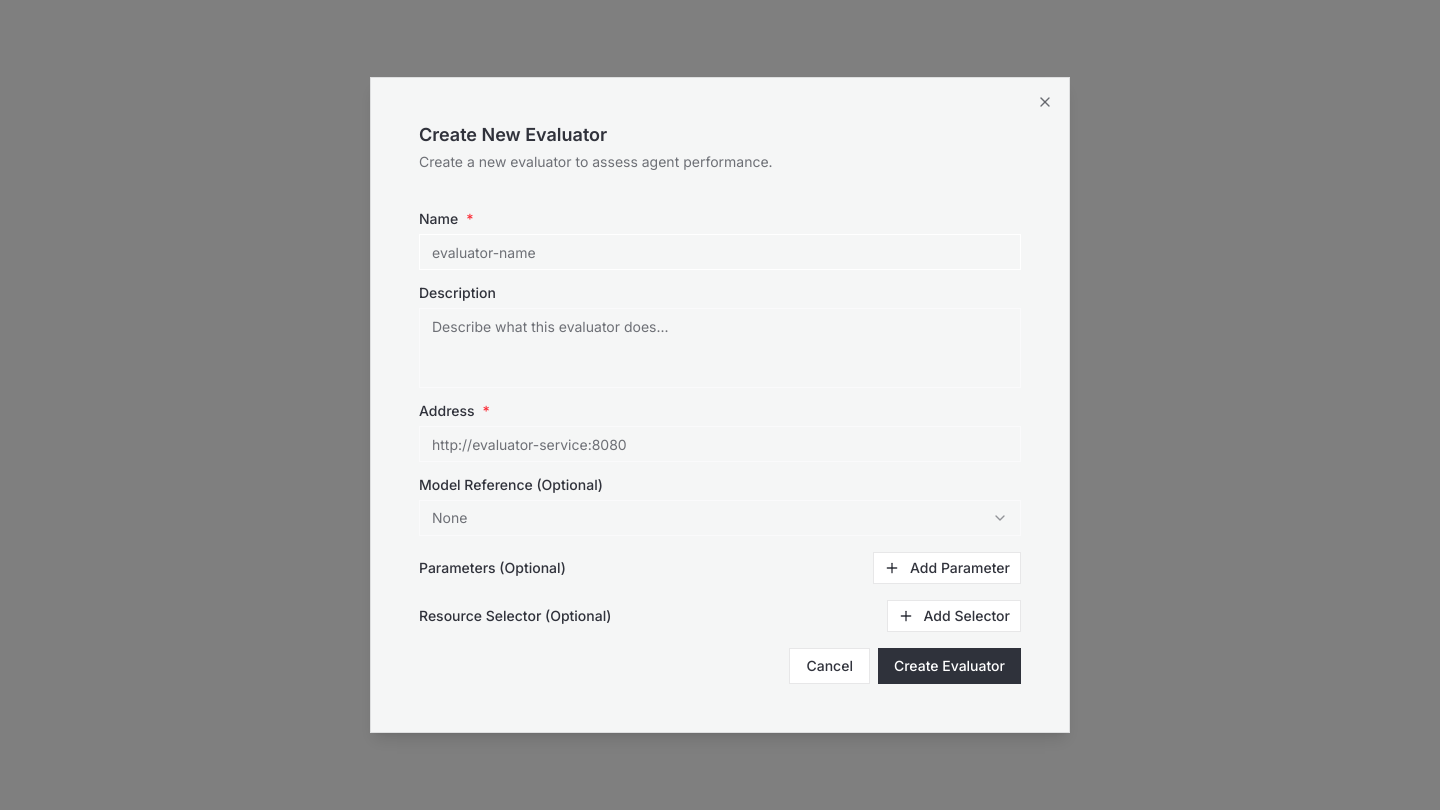
Test: EvaluatorEditor › validation › should show error for invalid name format
The image size is (1440, 810).
Type "Invalid Name!" into the field with placeholder "evaluator-name". click: [720, 252]
box: 419,234 -> 1021,270
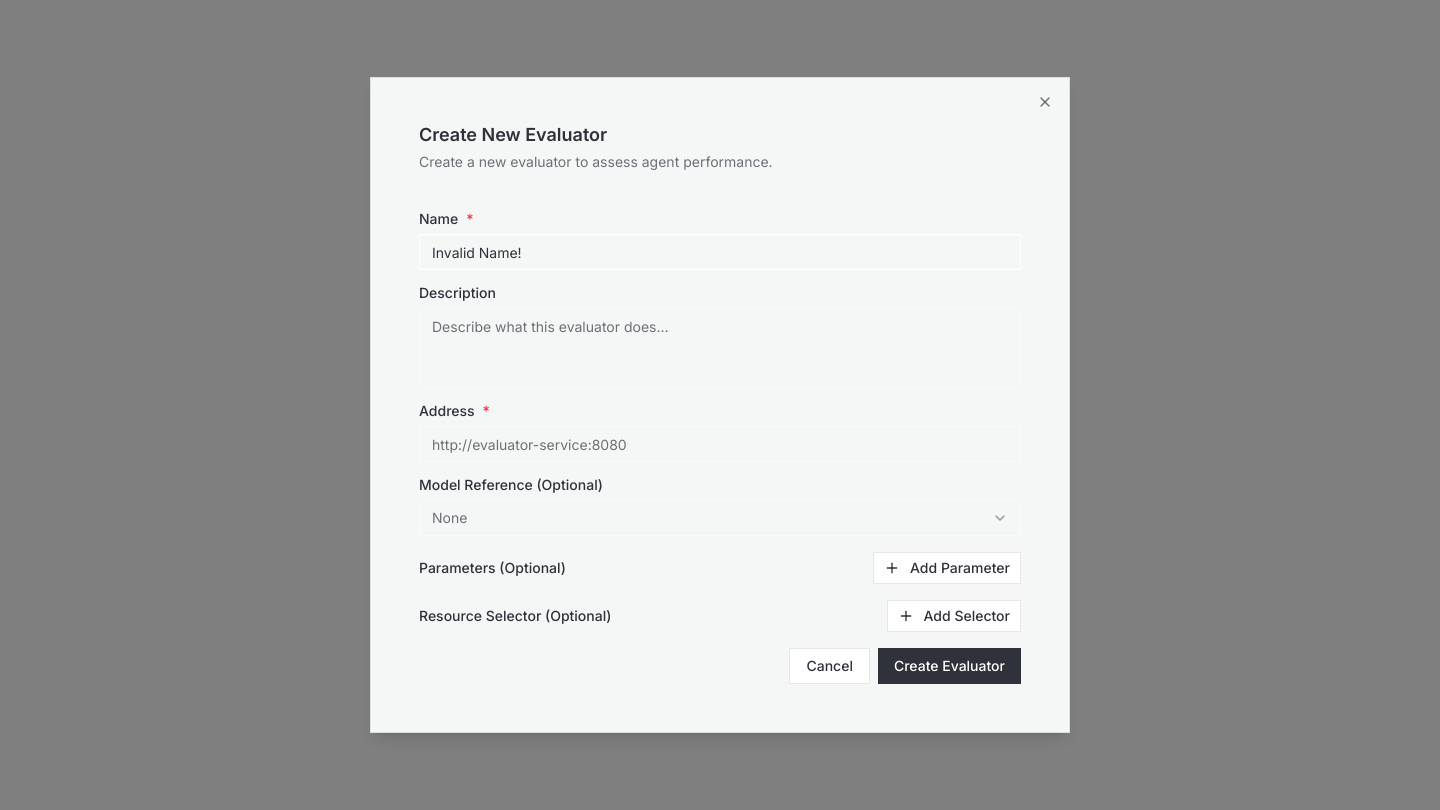
Click the button "Create Evaluator". click: [949, 666]
box: 878,648 -> 1021,684
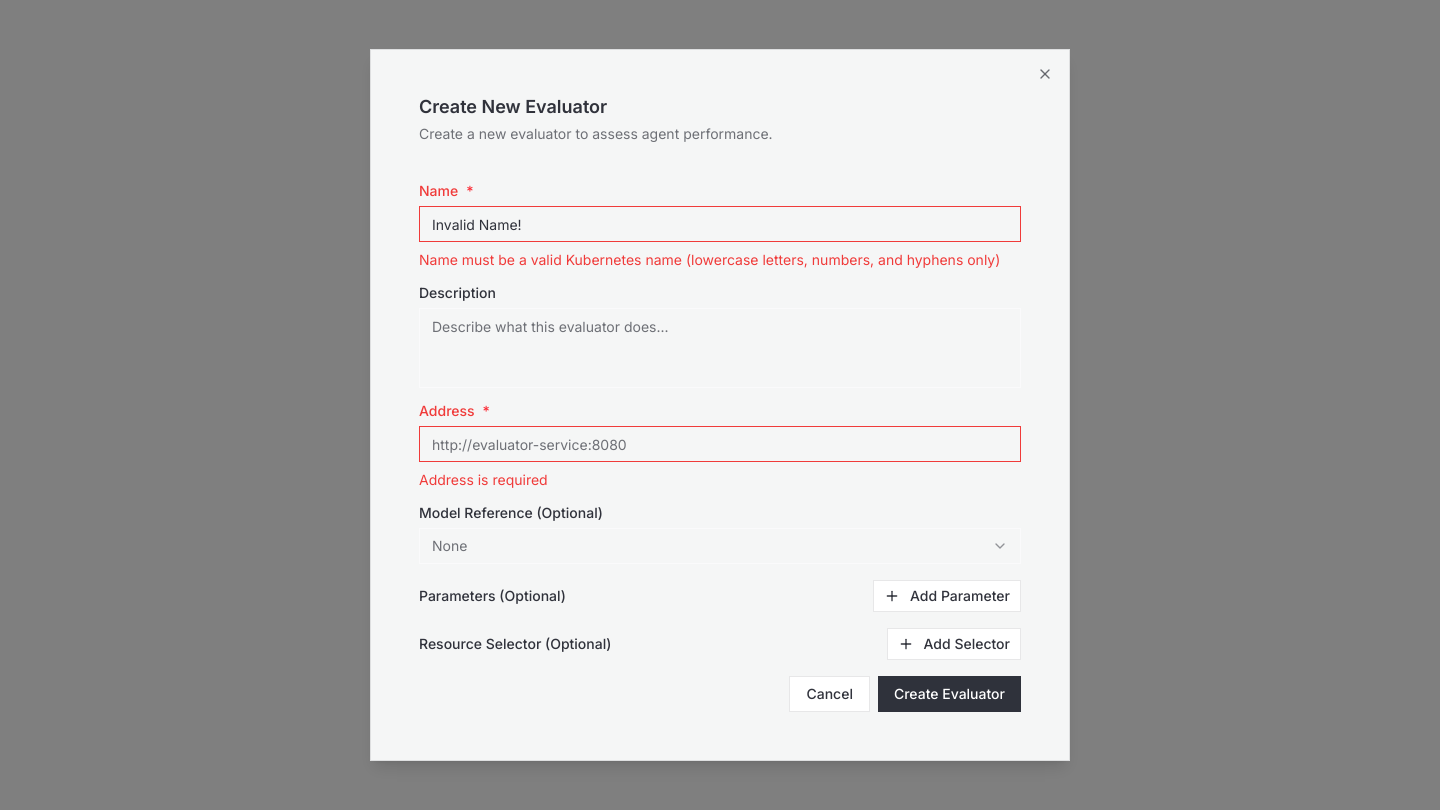
Result: the text "Name must be a valid Kubernetes name" is shown at 419,251 -> 1000,268
